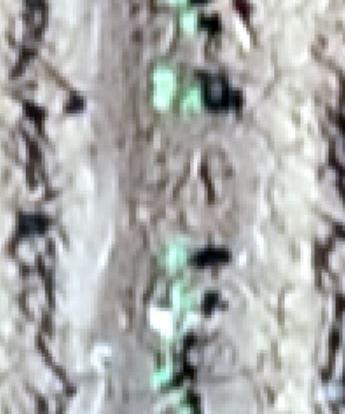cotton: (153, 69, 177, 106), (162, 241, 186, 266), (176, 280, 193, 315), (178, 9, 198, 36), (182, 86, 200, 109), (152, 370, 173, 389), (174, 392, 192, 414)
